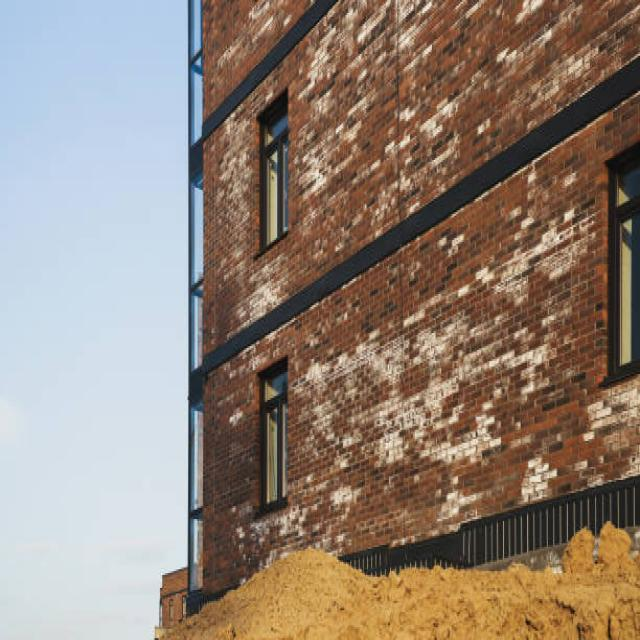efflorescence: (246, 316, 555, 564), (292, 1, 485, 221), (216, 118, 294, 332), (471, 2, 623, 96), (586, 378, 639, 487), (217, 2, 295, 61)
